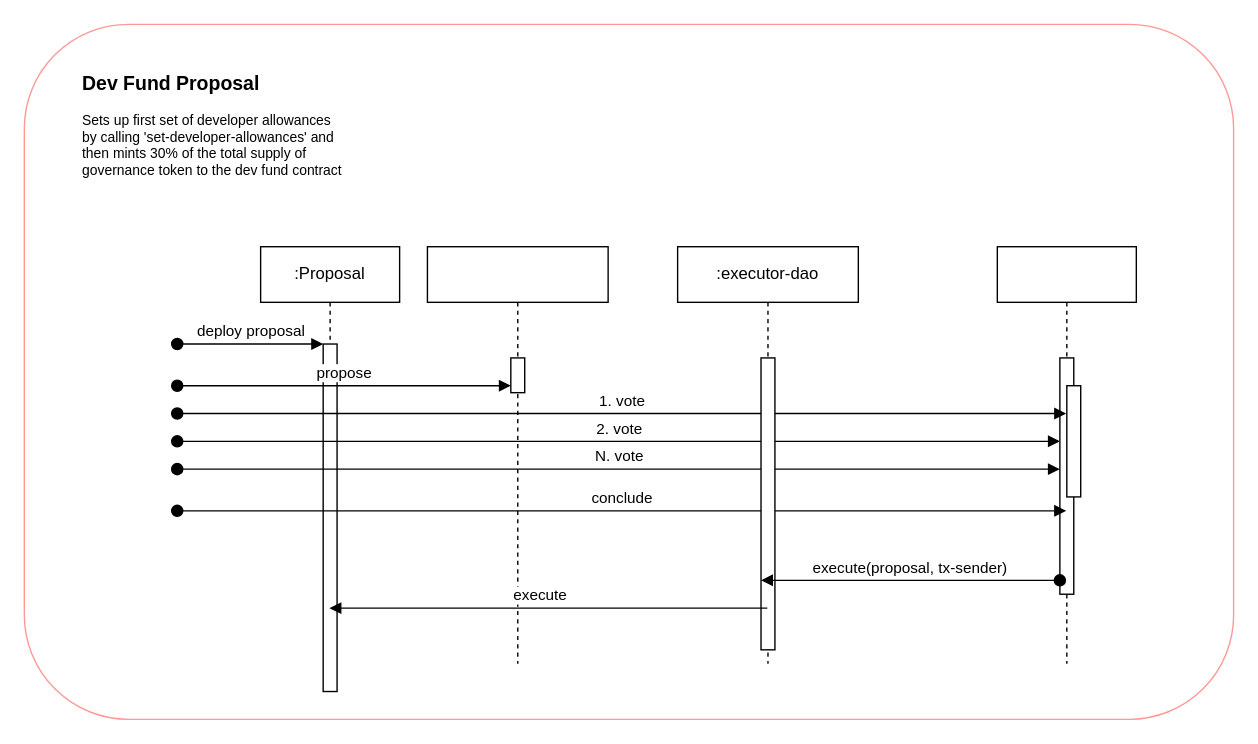
Image size: 1258x744. Some labels were removed from this diagram. Here are the shapes that lost their labels. From the top down, the box of each, then its label:
(426, 245, 608, 664): :ProposalSubmission
(996, 245, 1136, 664): :ProposalVoting
